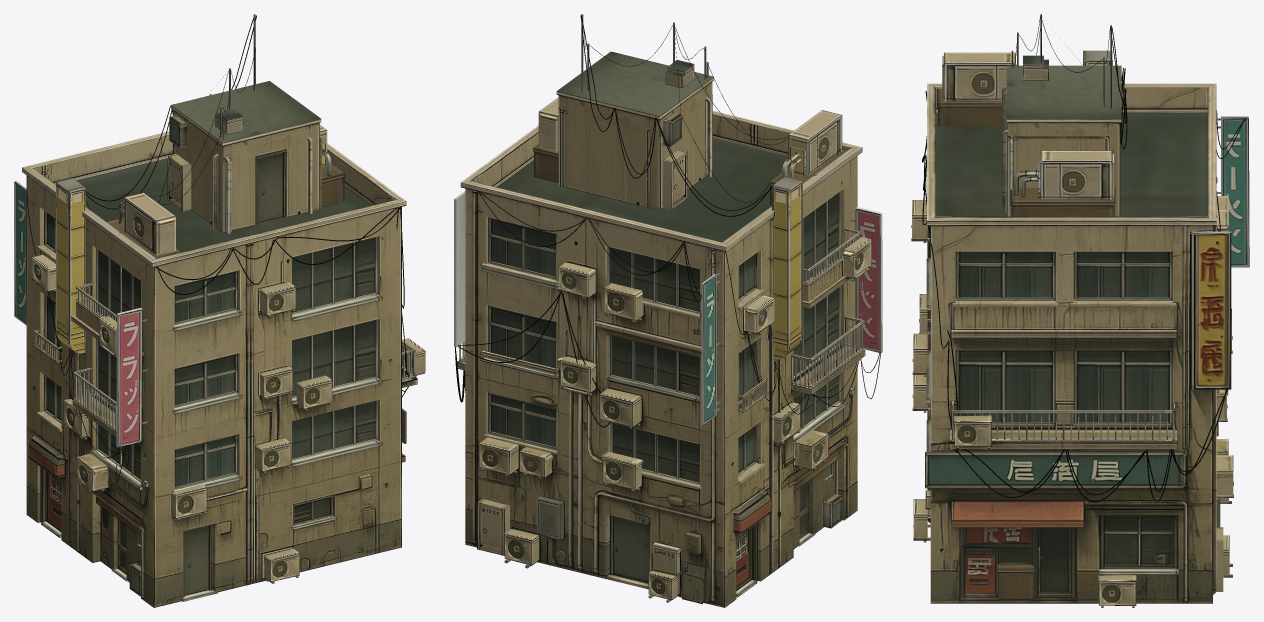
Rendered from edificio.glb.
3 renders of one model, left to right at view 1: azimuth 30°, elevation 25°; view 2: azimuth 150°, elevation 25°; view 3: azimuth 270°, elevation 25°, orthographic. The views are drawn at different scales.
Visible parts, largest first — view 1: Cube.012; view 2: Cube.012; view 3: Cube.012.
Boxes of the visible parts, left/top/right/bottom form: Cube.012: left=14, top=14, right=425, bottom=607; Cube.012: left=454, top=14, right=882, bottom=607; Cube.012: left=911, top=14, right=1249, bottom=607.
Size of the model in its own units: 3.44 by 5.15 by 2.91.
Materials: 5 (4 with a texture image).
